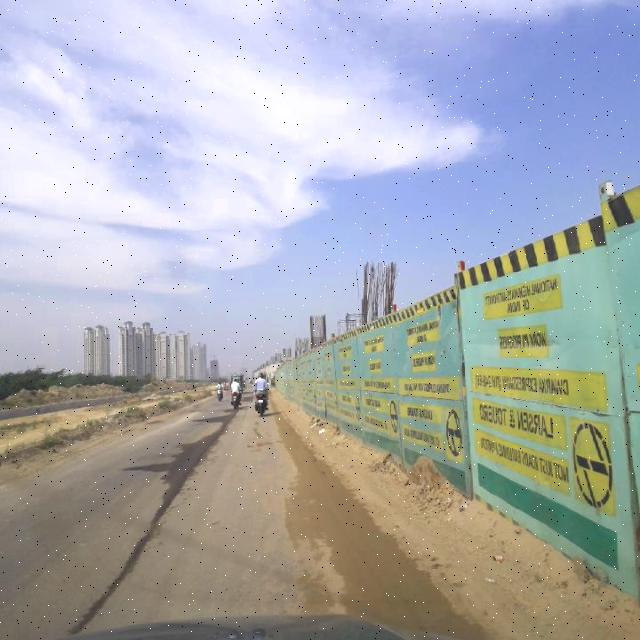D00: (81, 420, 234, 620)
